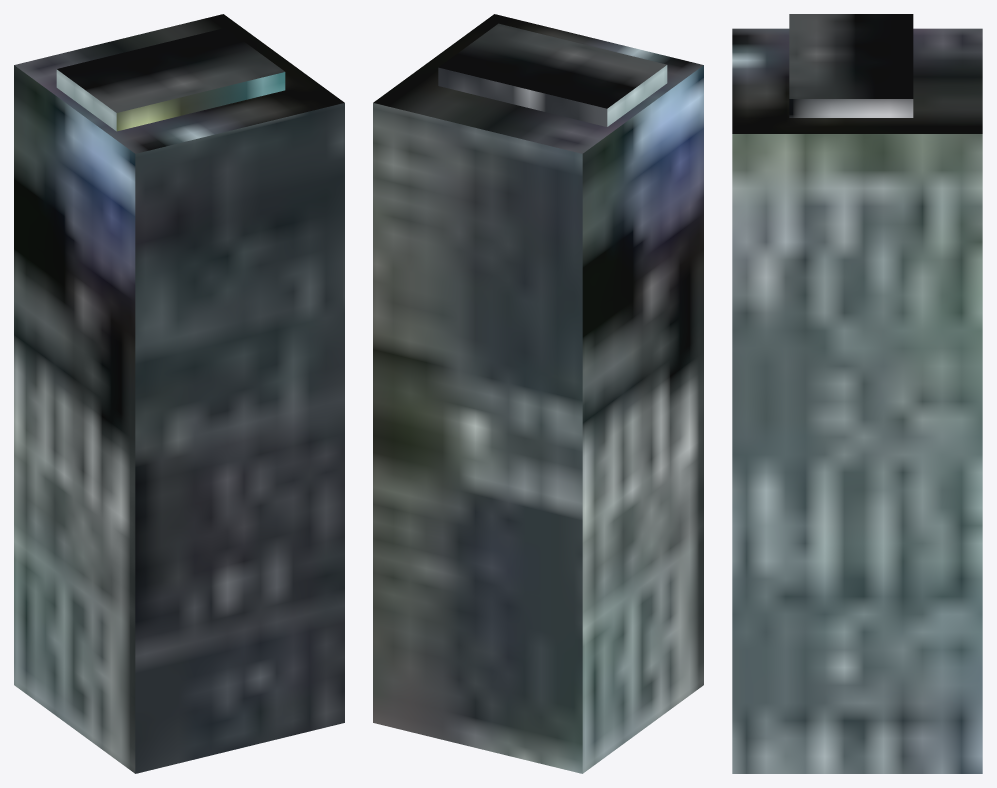
Rendered from night-2.glb.
The picture shows the model from 3 angles, left to right: view 1: azimuth 30°, elevation 25°; view 2: azimuth 150°, elevation 25°; view 3: azimuth 270°, elevation 25°; orthographic projection. The views are drawn at different scales.
Bounding box in the file's own units: 2.59 × 7.53 × 2.6.
1 material, 1 textured.
